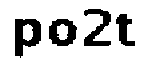2: (81, 3, 113, 49)
o: (46, 18, 78, 47)
p: (10, 13, 42, 60)
t: (113, 9, 141, 52)
